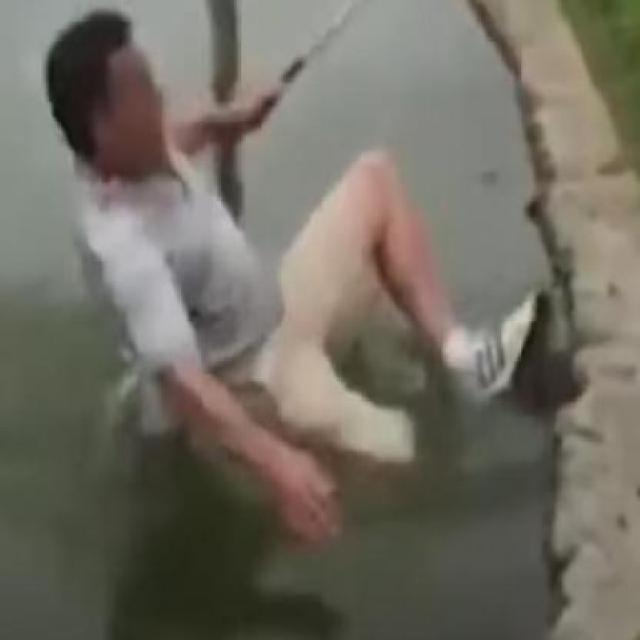fall: (51, 19, 558, 536)
